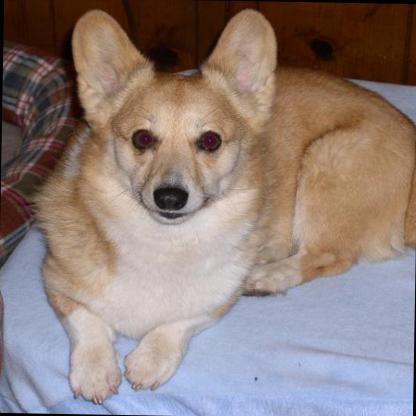Pembroke: (32, 5, 416, 409)
